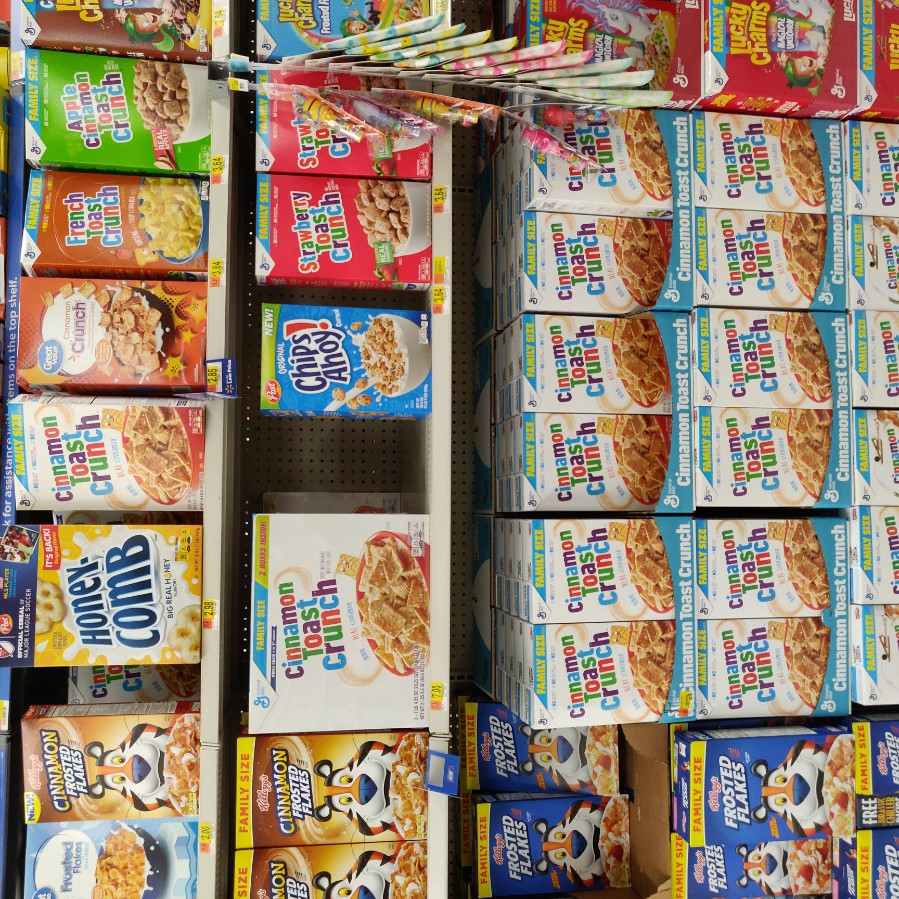Chips Ahoys-565717529: (258, 301, 449, 425)
Honey Comb- 009288857: (3, 510, 202, 665)
